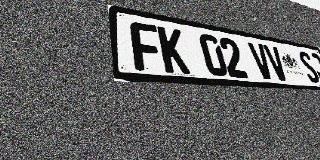0: (198, 33, 229, 77)
2: (218, 37, 248, 78)
F: (129, 21, 164, 72)
J: (308, 52, 320, 84)
K: (157, 26, 190, 74)
S: (296, 50, 320, 83)
V: (247, 42, 276, 80), (263, 44, 290, 81)
